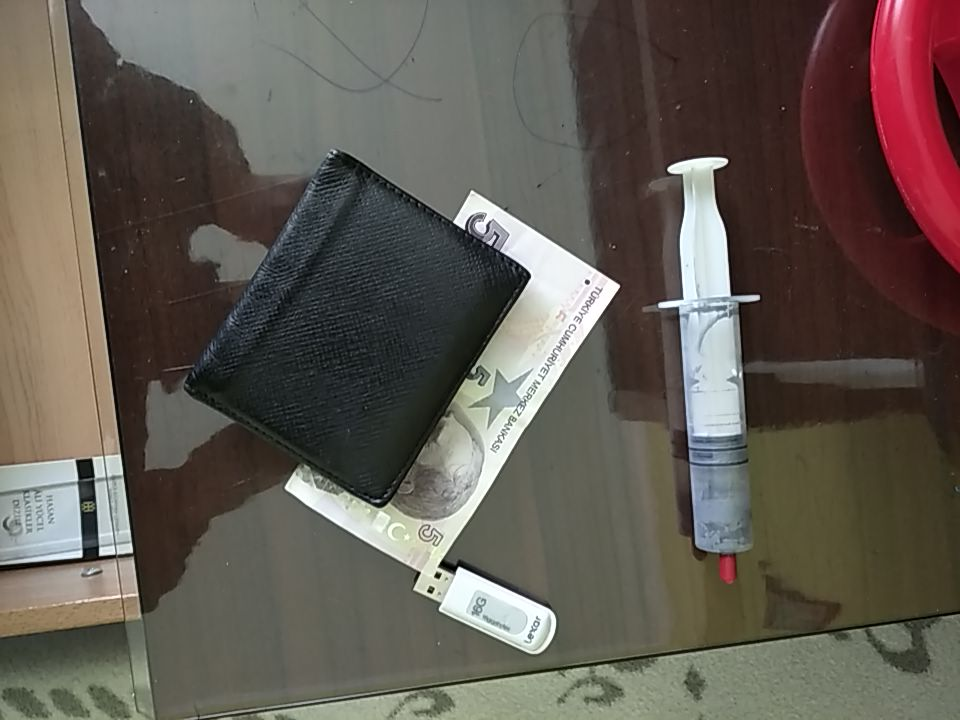5TL: (281, 188, 623, 578)
